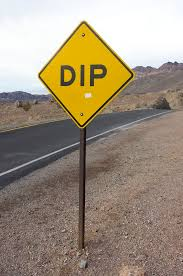dip: (37, 17, 135, 131)
